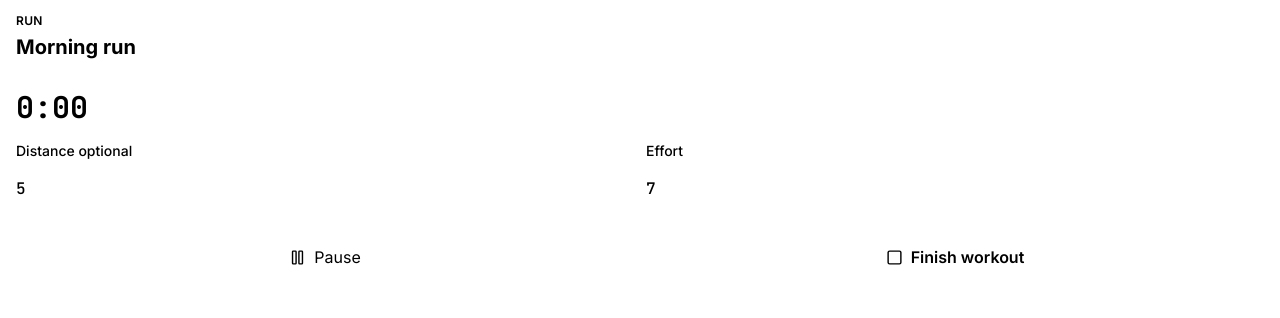
Test: LiveCardio › retains invalid cardio input and shows feedback before a live finish
The width and height of the screenshot is (1280, 318).
Replace the text in the number field labelled "Distance optional" with "-1" at [325, 189], box [16,165,634,213]
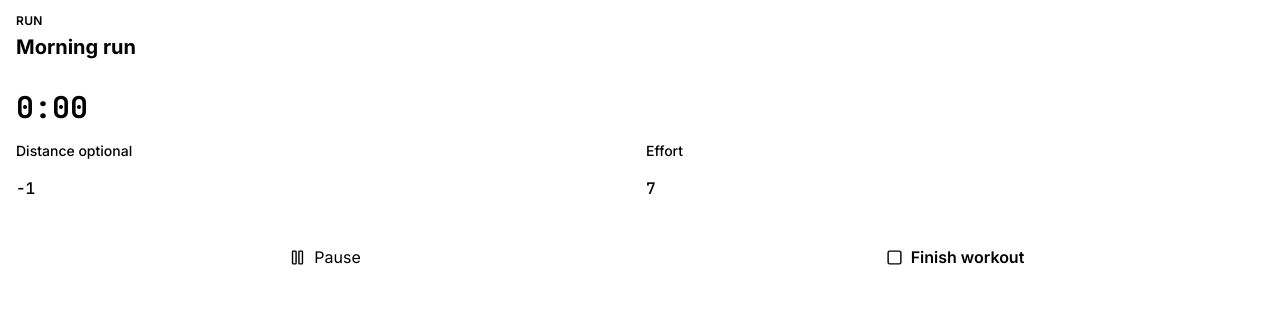
Replace the text in the number field labelled "Effort" with "11" at [955, 189], box [646,165,1264,213]
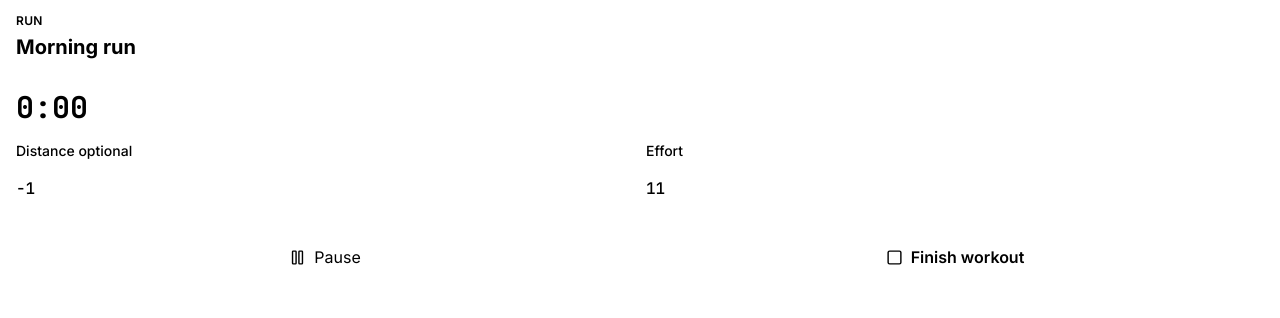
Click the button "Finish workout" at [955, 257], box [646,229,1264,285]
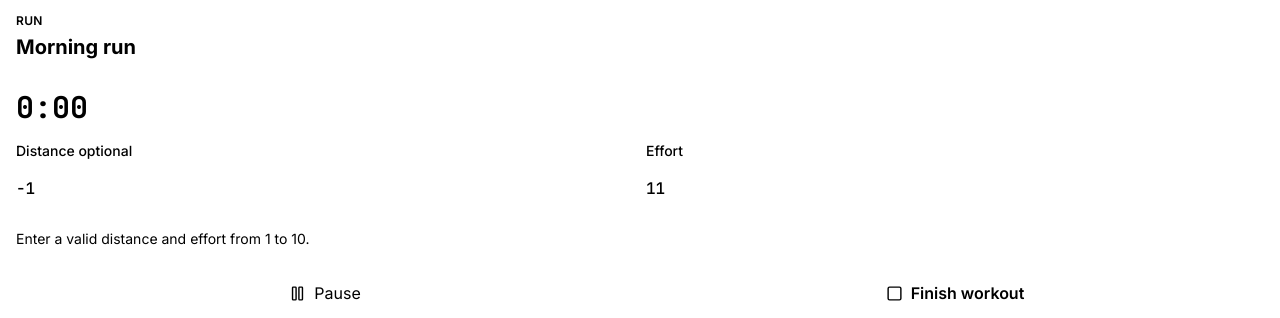
Expected: the message shows "valid distance", [16,230,310,247]
